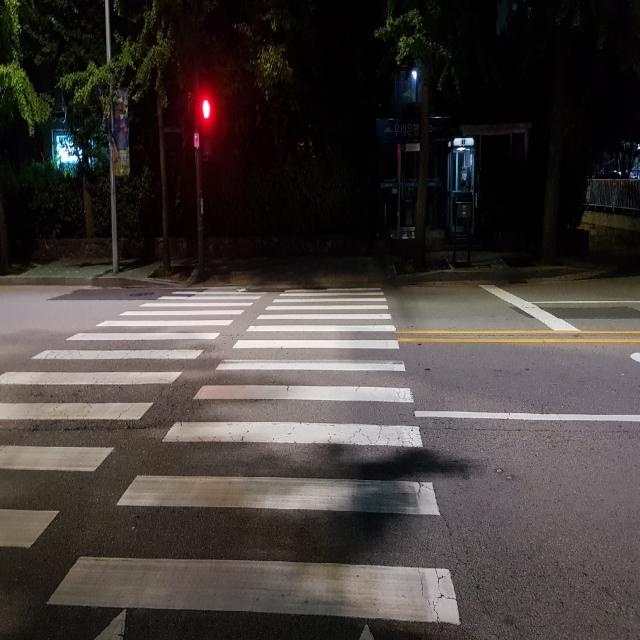빨간불: (199, 91, 214, 151)
횡단보도: (0, 285, 462, 640)
